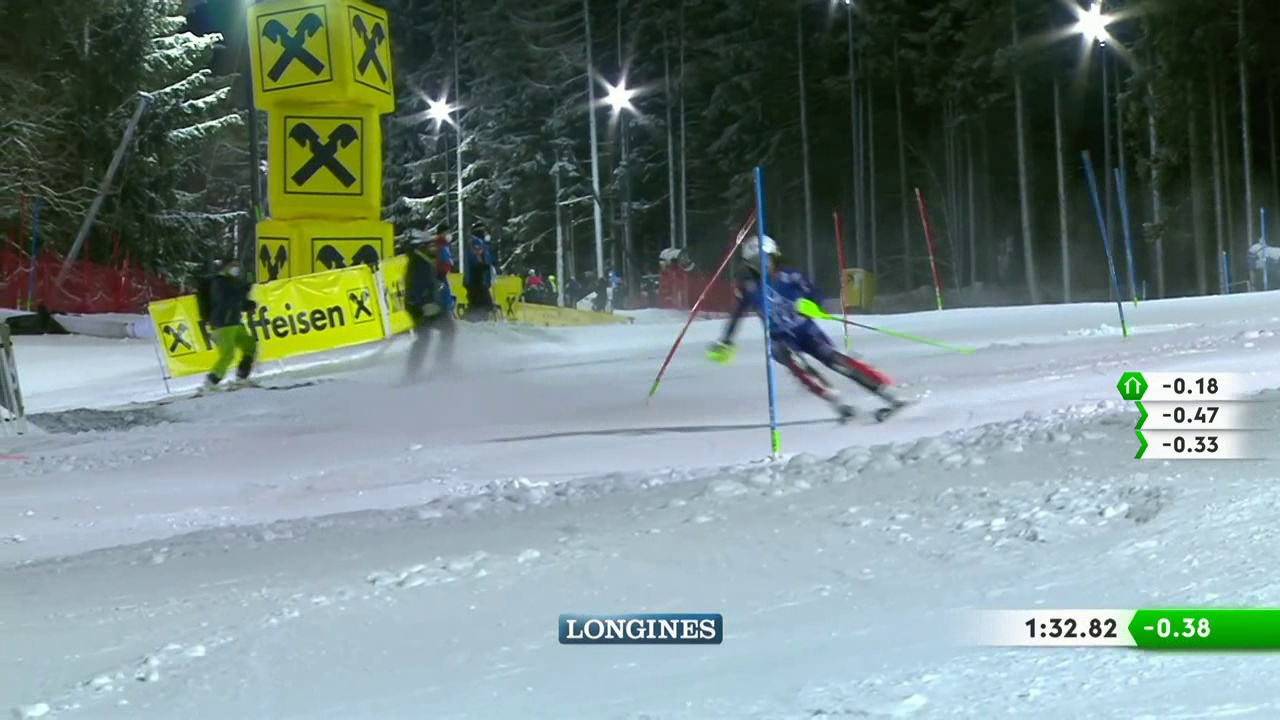longines: (553, 612, 736, 647)
raiffeisen: (234, 271, 394, 360), (253, 1, 340, 98), (282, 113, 363, 201), (348, 1, 390, 104), (154, 316, 202, 363)
